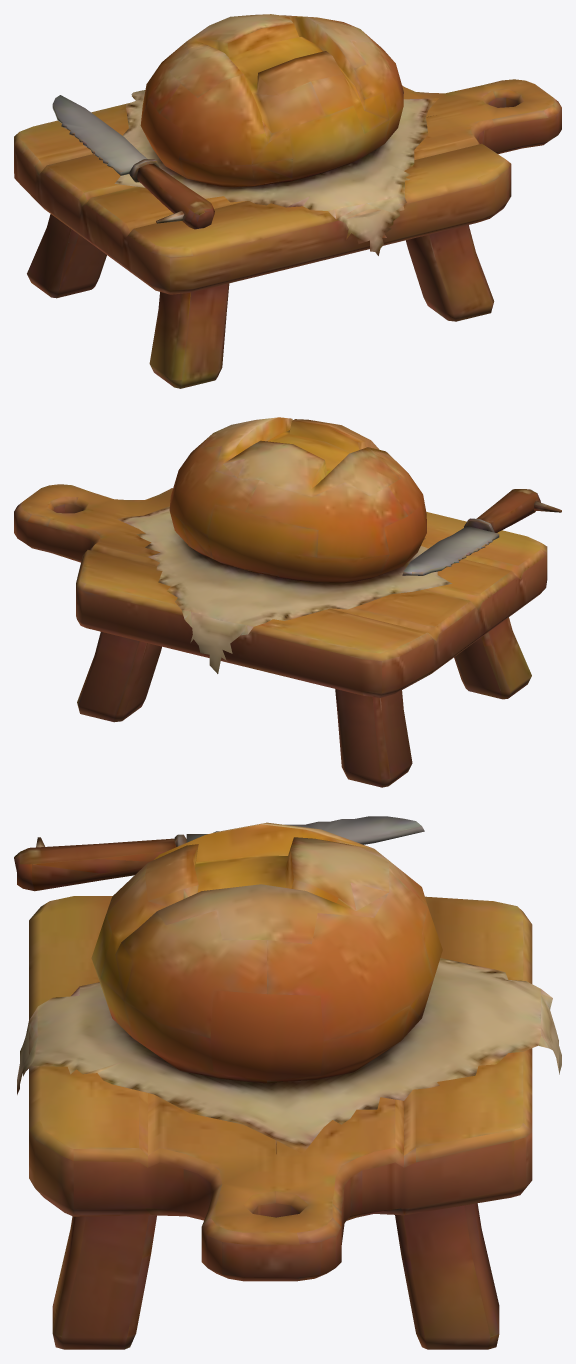
Rendered from wyn_furn_bread_board.glb.
3 views of the same model, one above another, from view 1: azimuth 30°, elevation 25°; view 2: azimuth 150°, elevation 25°; view 3: azimuth 270°, elevation 25° (orthographic). The views are drawn at different scales.
Parts seen in each view (by area): view 1: tripo_node_cf01a4af-5c15-4186-ac24-61350bc04447; view 2: tripo_node_cf01a4af-5c15-4186-ac24-61350bc04447; view 3: tripo_node_cf01a4af-5c15-4186-ac24-61350bc04447.
Boxes of the visible parts, bbox=[...] form: tripo_node_cf01a4af-5c15-4186-ac24-61350bc04447: bbox=[14, 14, 561, 388]; tripo_node_cf01a4af-5c15-4186-ac24-61350bc04447: bbox=[14, 417, 561, 787]; tripo_node_cf01a4af-5c15-4186-ac24-61350bc04447: bbox=[14, 816, 561, 1349].
Bounding box in the file's own units: 0.375 × 0.2 × 0.2556.
Materials: 1 (1 with a texture image).
